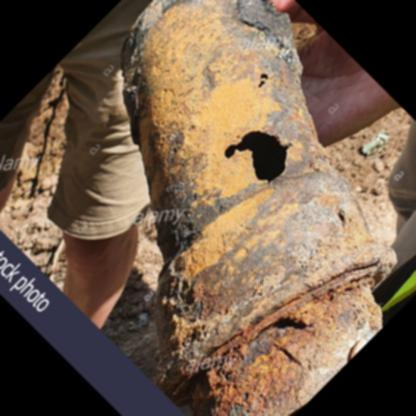burst: (214, 121, 299, 194)
